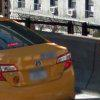Car: (2, 15, 82, 100)
